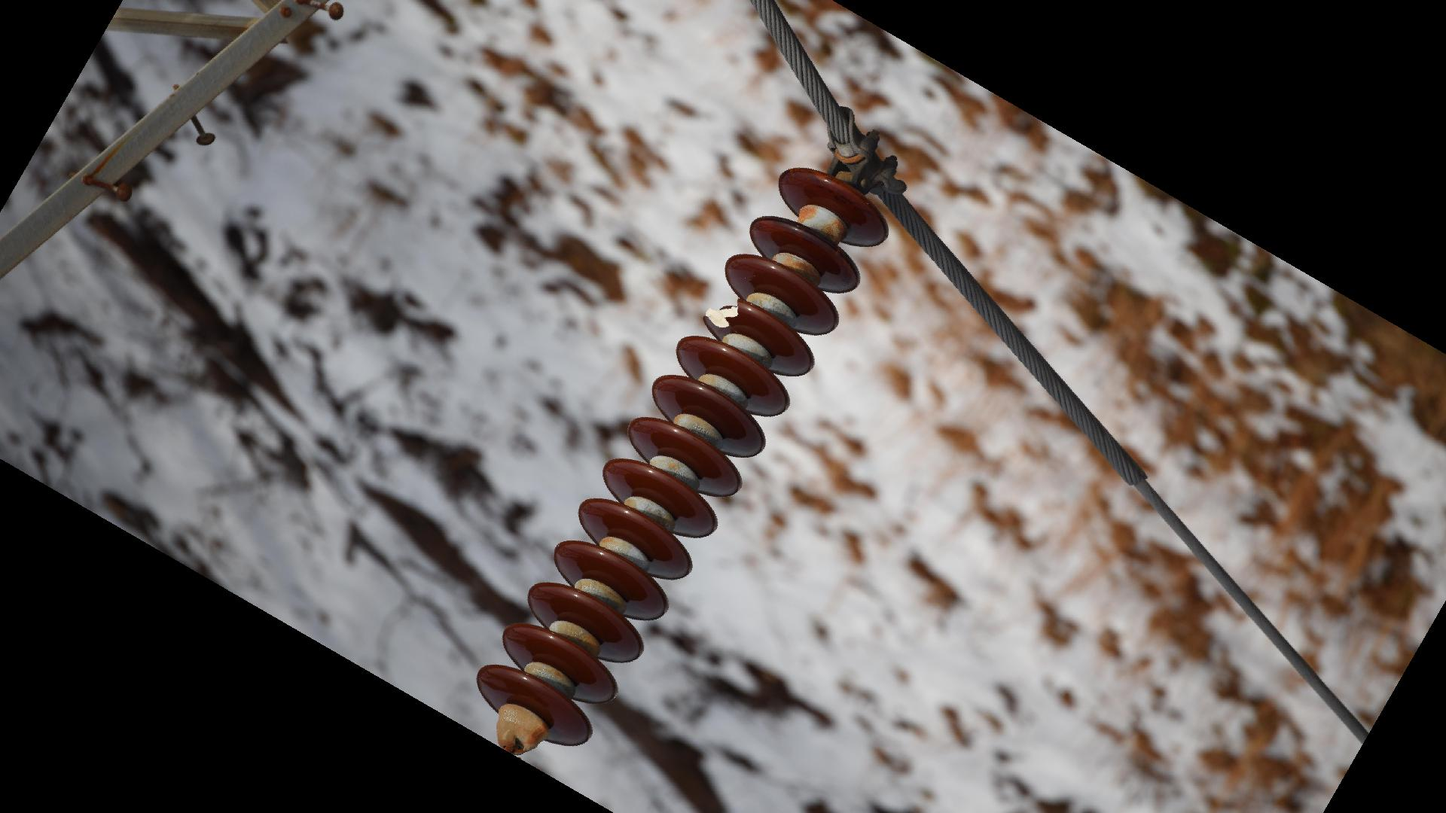insulator: (471, 163, 890, 753)
insulator_breakage: (700, 294, 750, 334)
